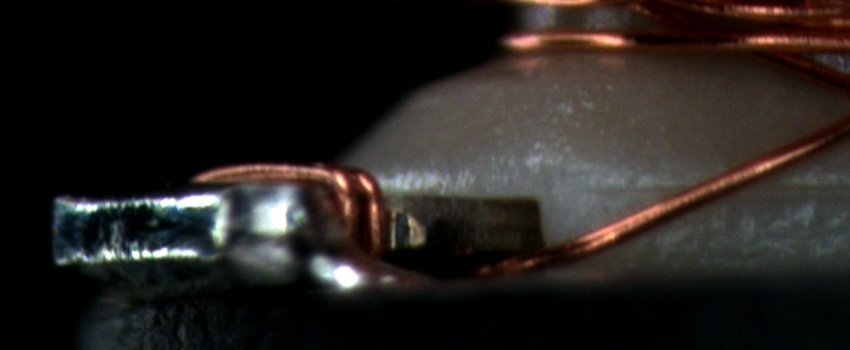DL: (586, 155, 849, 216)
TE: (187, 155, 386, 265)
